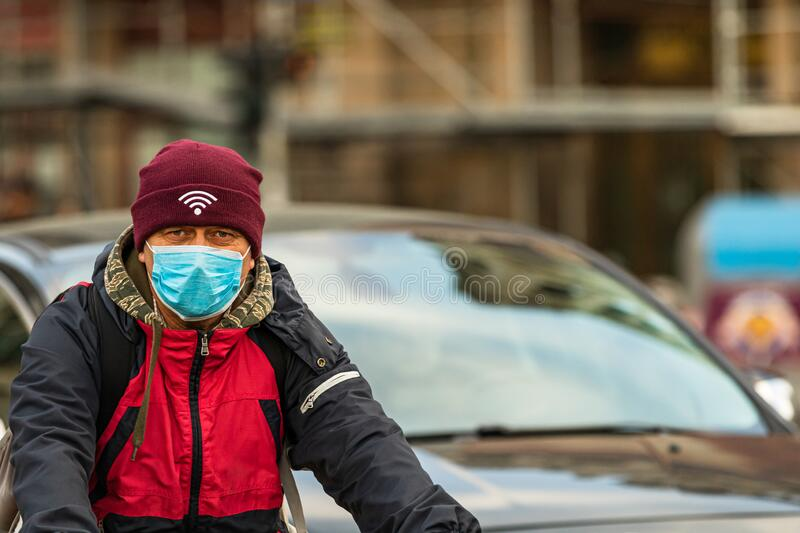with_mask: (139, 177, 263, 313)
